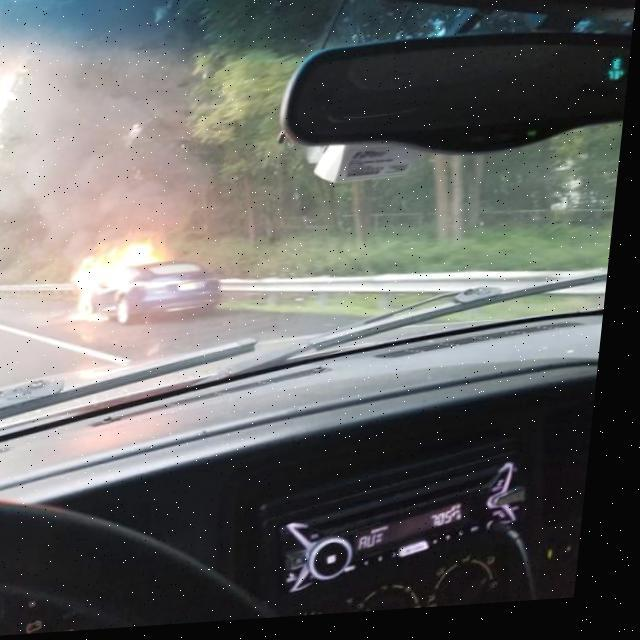Fire: (72, 231, 178, 331)
